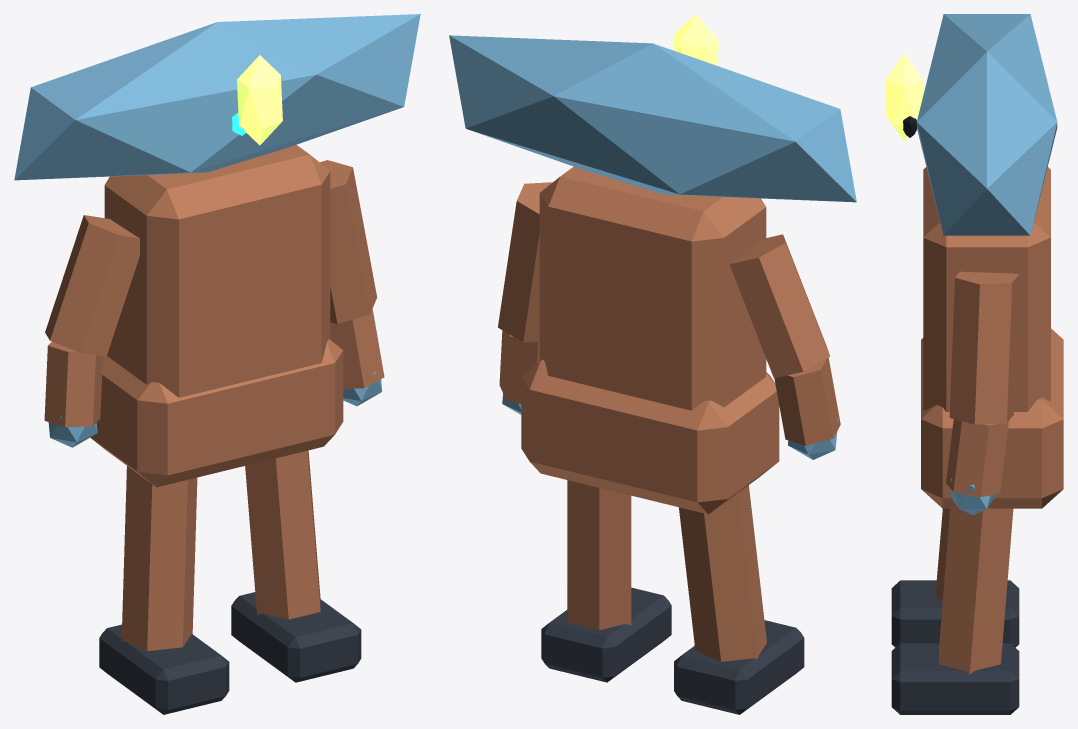
Rendered from npcs_008_seed11.glb.
The picture shows the model from 3 angles, left to right: view 1: azimuth 30°, elevation 25°; view 2: azimuth 150°, elevation 25°; view 3: azimuth 270°, elevation 25°; orthographic projection. The views are drawn at different scales.
Parts seen in each view (by area): view 1: npcs_008_seed11; view 2: npcs_008_seed11; view 3: npcs_008_seed11.
Part boxes in pixels (x1=…): npcs_008_seed11: x1=14, y1=14, x2=420, y2=714; npcs_008_seed11: x1=449, y1=14, x2=856, y2=714; npcs_008_seed11: x1=885, y1=14, x2=1063, y2=714.
Bounding box in the file's own units: 1.3 × 1.94 × 0.507.
